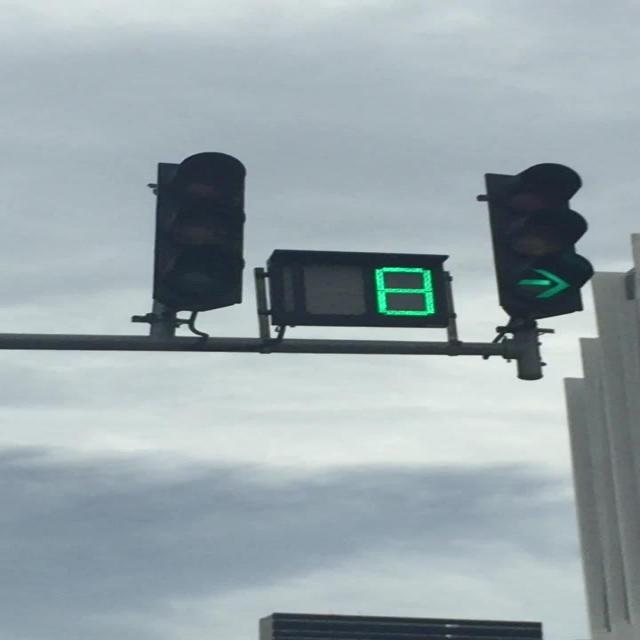traffic light: (481, 163, 594, 321), (151, 152, 246, 313), (265, 250, 452, 328), (503, 319, 545, 381), (515, 325, 545, 381)
